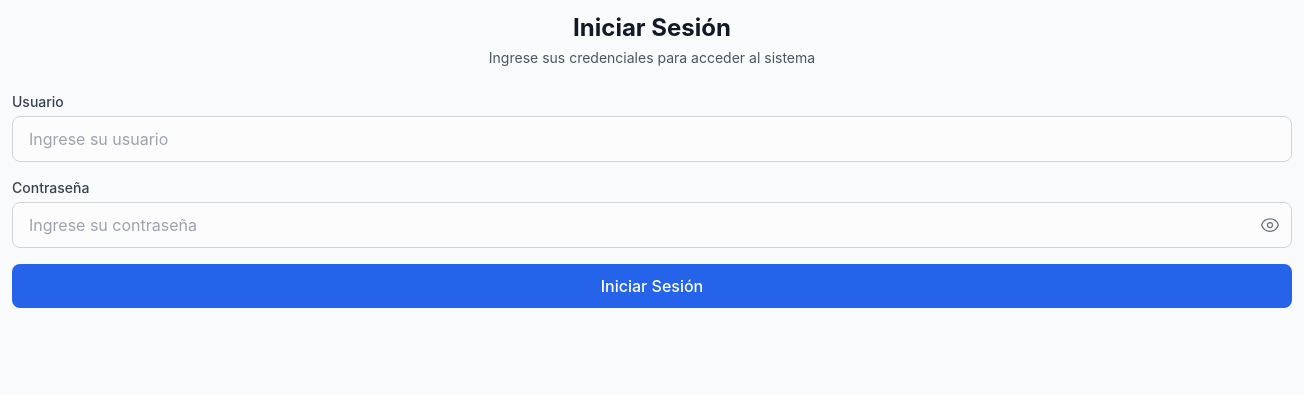
Test case: LoginPage › shows error when username is empty on submit
The image size is (1304, 395).
Click the button "Iniciar Sesión". click: x=652, y=286
box: [12,264,1292,308]
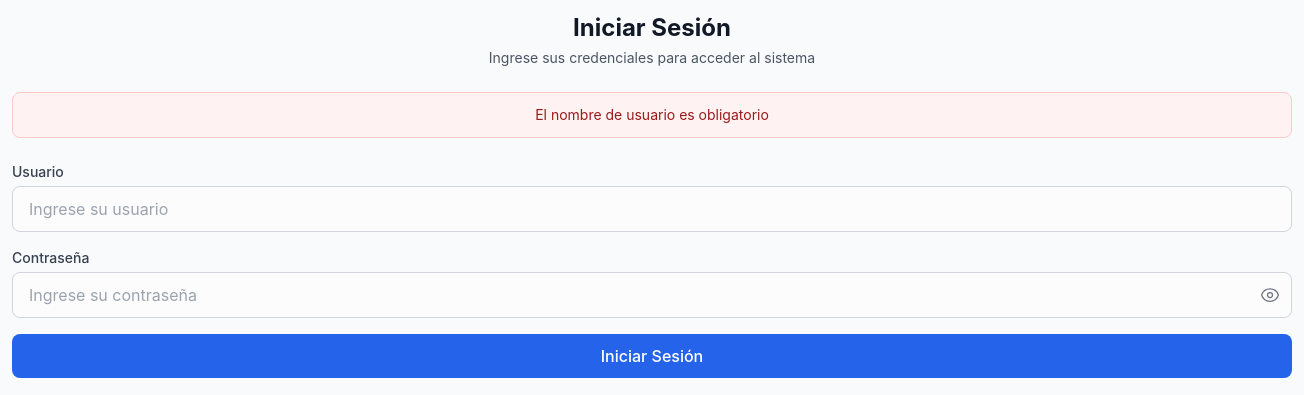
Now the text "El nombre de usuario es obligatorio" is shown, box [535,106,769,123]
